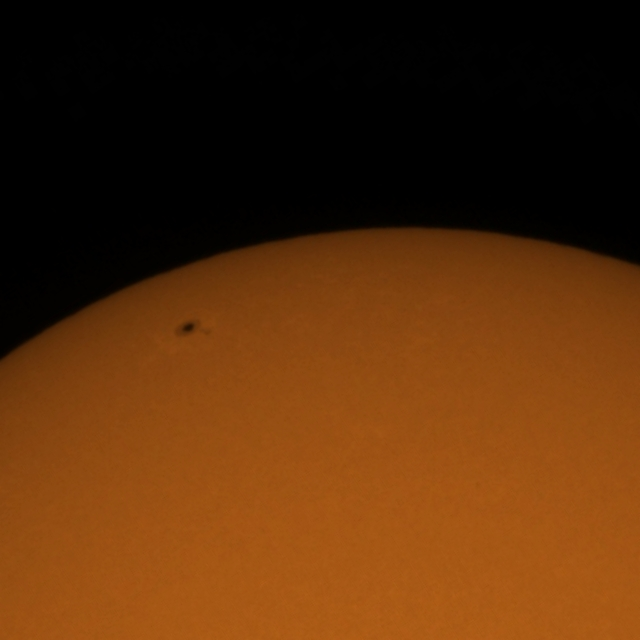sunspot: (173, 320, 213, 340)
